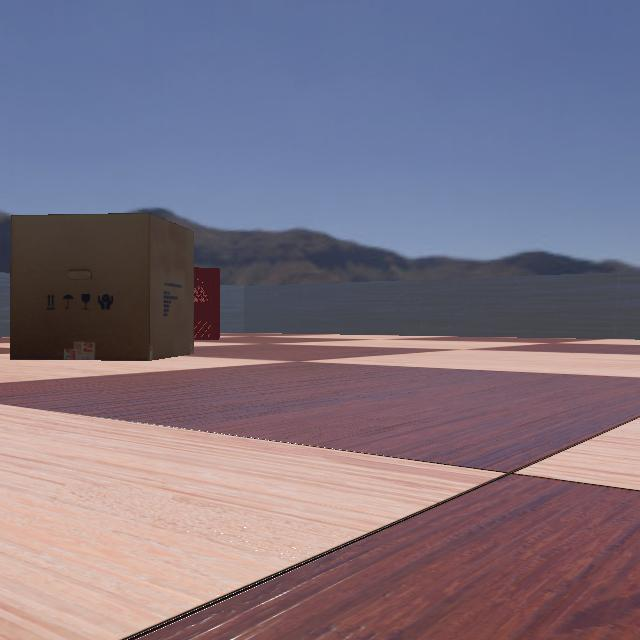cardboard-box: (2, 212, 196, 360)
